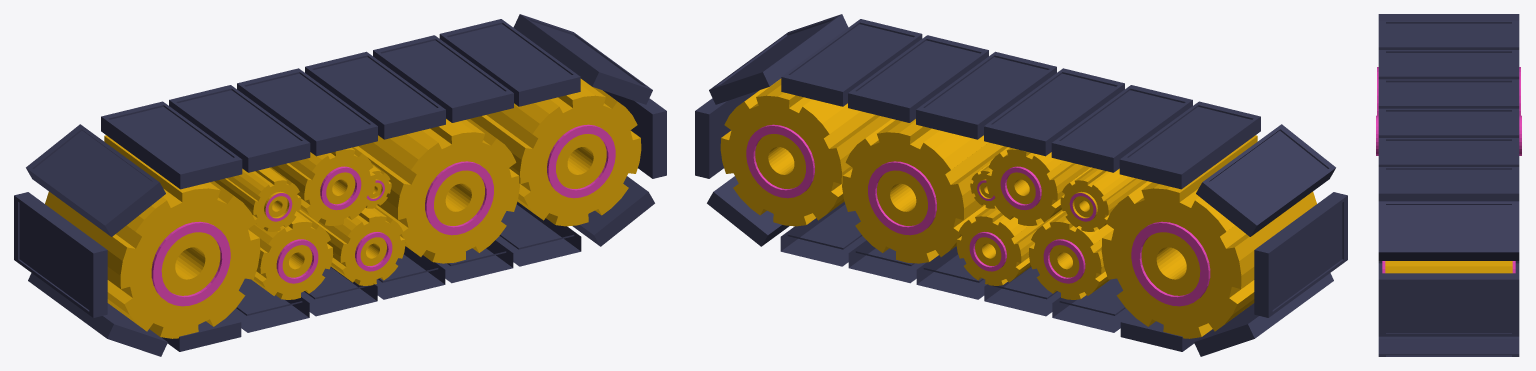
File: ConveyerBeltRiggedReAnimated.fbx
3 views of the same model, side by side, from view 1: azimuth 30°, elevation 25°; view 2: azimuth 150°, elevation 25°; view 3: azimuth 270°, elevation 25° (orthographic). The views are drawn at different scales.
Visible parts, largest first — view 1: Cube.004, Cylinder.006, Cylinder.010, Cylinder.012, Cylinder.008, Cylinder.011, Cylinder.013, Cylinder.009, Cylinder.014; view 2: Cube.004, Cylinder.006, Cylinder.010, Cylinder.012, Cylinder.008, Cylinder.011, Cylinder.013, Cylinder.009, Cylinder.014; view 3: Cube.004, Cylinder.012, Cylinder.008, Cylinder.006.
Boxes of the visible parts, bbox=[...] form: Cube.004: bbox=[14, 14, 666, 356]; Cylinder.006: bbox=[45, 135, 260, 338]; Cylinder.010: bbox=[354, 119, 519, 263]; Cylinder.012: bbox=[470, 78, 641, 226]; Cylinder.008: bbox=[271, 147, 375, 225]; Cylinder.011: bbox=[248, 211, 333, 299]; Cylinder.013: bbox=[299, 207, 405, 285]; Cylinder.009: bbox=[214, 167, 301, 231]; Cylinder.014: bbox=[364, 163, 391, 208]; Cube.004: bbox=[695, 14, 1347, 356]; Cylinder.006: bbox=[1101, 135, 1316, 338]; Cylinder.010: bbox=[842, 119, 1007, 263]; Cylinder.012: bbox=[720, 78, 891, 226]; Cylinder.008: bbox=[986, 147, 1090, 225]; Cylinder.011: bbox=[1028, 211, 1113, 299]; Cylinder.013: bbox=[956, 207, 1062, 285]; Cylinder.009: bbox=[1060, 167, 1147, 231]; Cylinder.014: bbox=[970, 163, 997, 208]; Cube.004: bbox=[1378, 14, 1519, 356]; Cylinder.012: bbox=[1382, 261, 1515, 273]; Cylinder.008: bbox=[1376, 115, 1521, 155]; Cylinder.006: bbox=[1377, 67, 1520, 115].
Size of the model in its own units: 1688 by 501 by 420.
